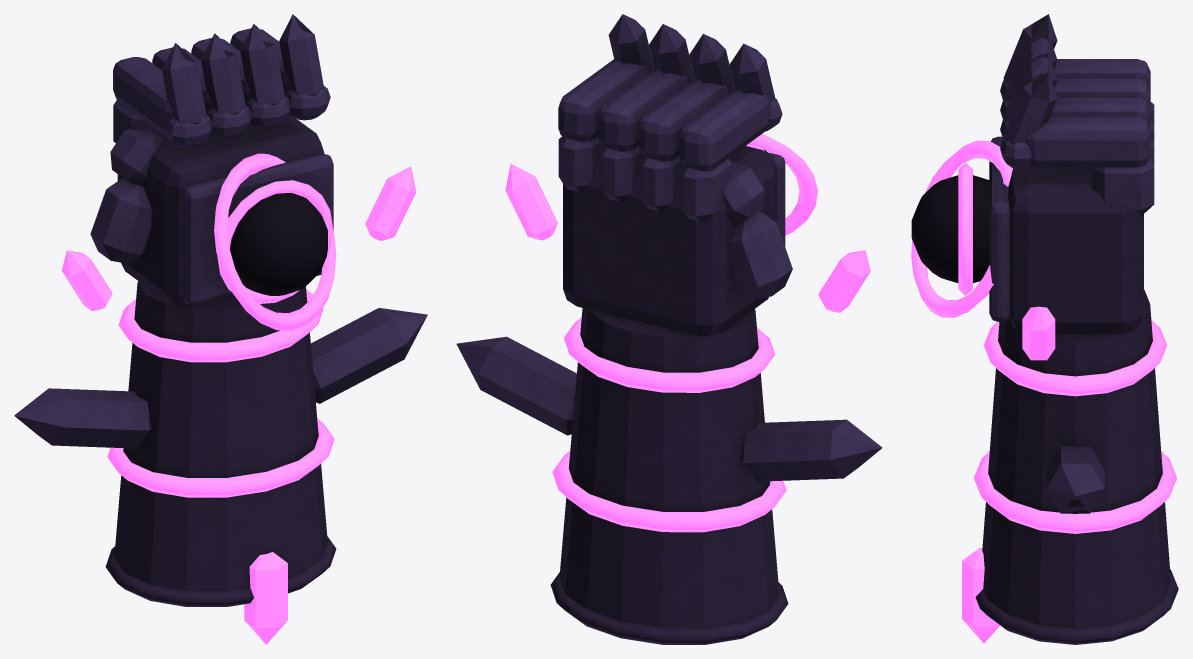
Rendered from 12_void_gauntlet.fbx.
The picture shows the model from 3 angles, left to right: view 1: azimuth 30°, elevation 25°; view 2: azimuth 150°, elevation 25°; view 3: azimuth 270°, elevation 25°; orthographic projection. The views are drawn at different scales.
Visible parts, largest first — view 1: Weapon; view 2: Weapon; view 3: Weapon.
Part boxes in pixels (left/top/right/bottom): Weapon: left=14, top=14, right=427, bottom=644; Weapon: left=456, top=14, right=882, bottom=644; Weapon: left=911, top=14, right=1178, bottom=644.
Size of the model in its own units: 36.8 by 50.4 by 20.33.
2 materials, 1 textured.
